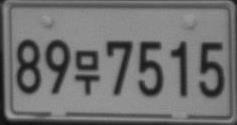1: (167, 40, 194, 96)
5: (198, 41, 226, 99), (138, 41, 164, 96)
7: (105, 40, 134, 95)
8: (15, 38, 41, 94)
9: (44, 39, 70, 94)
무: (74, 49, 101, 95)
